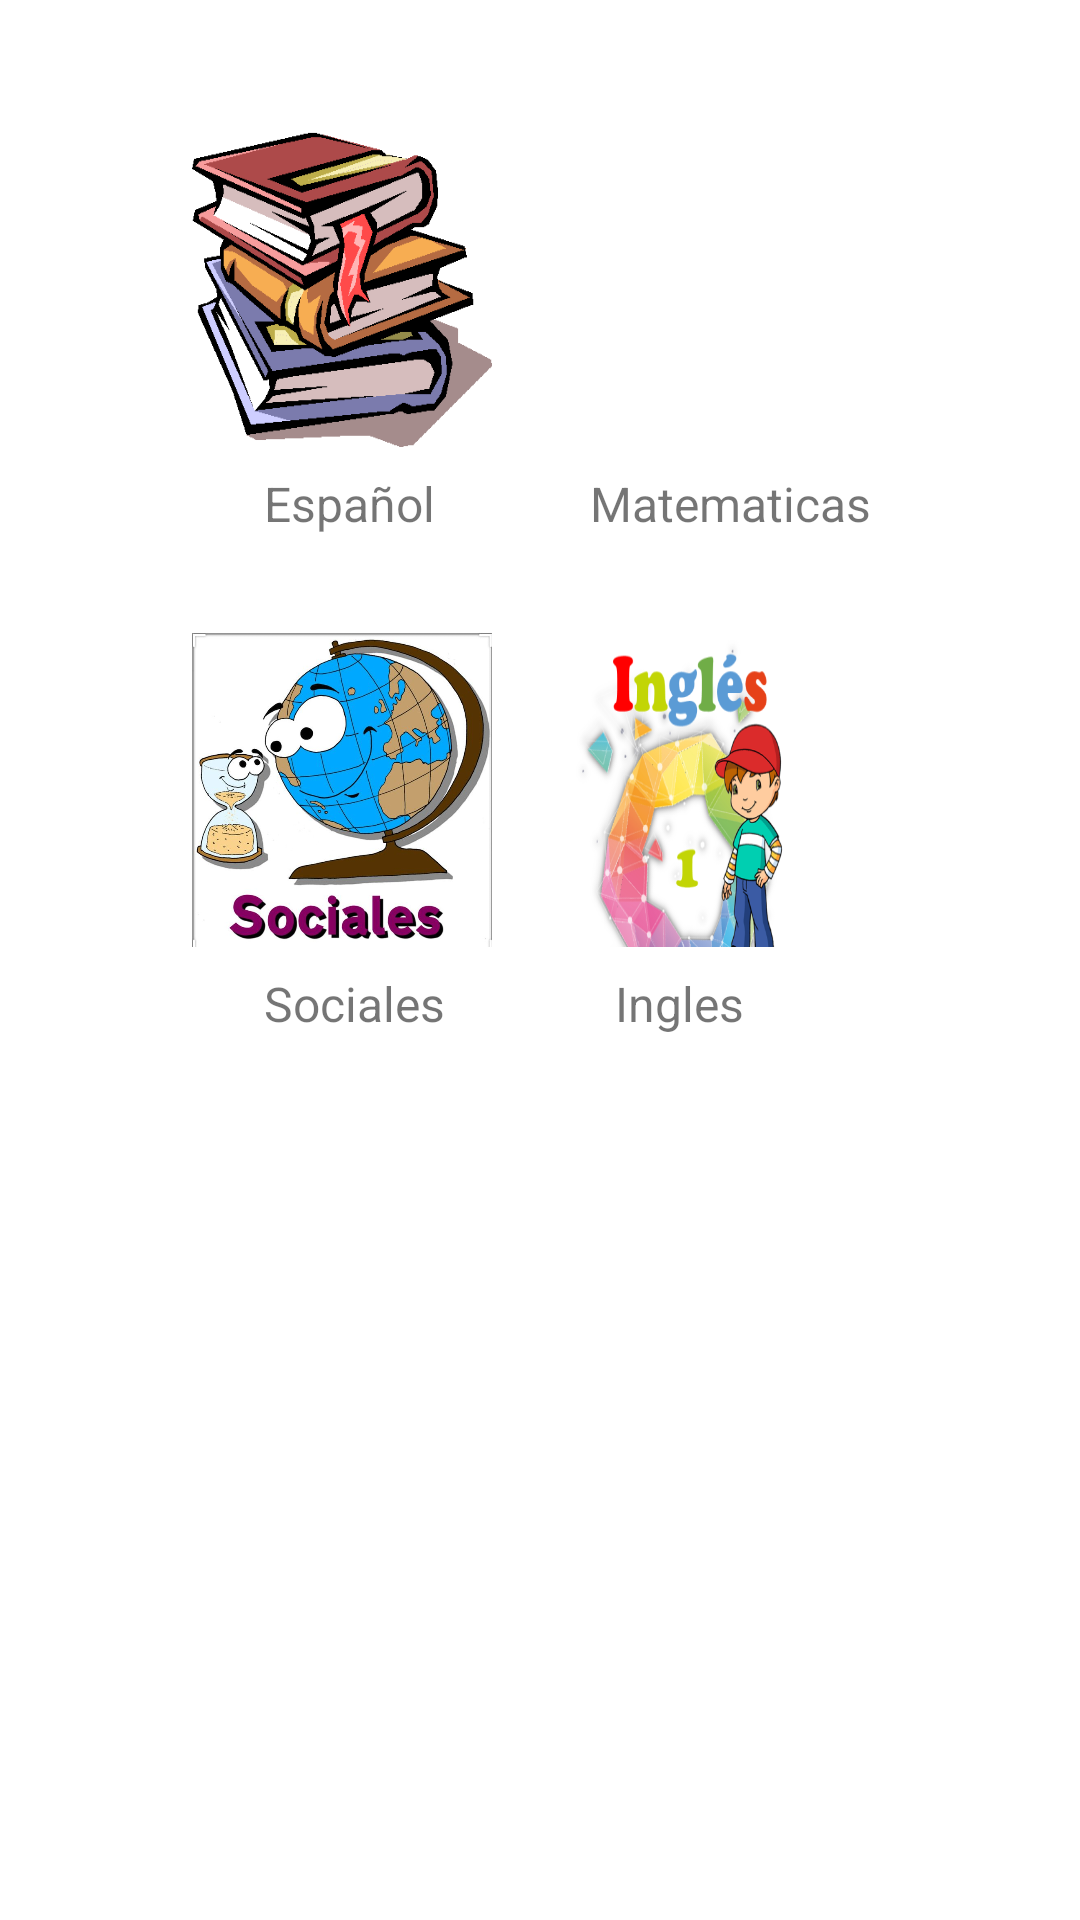

Named icons in this screenshot (1080px×1920px) and their bounding boxes, [x1=x1, y1=y1, x2=x2, y2=y2]:
libros: [x1=192, y1=133, x2=492, y2=447]
